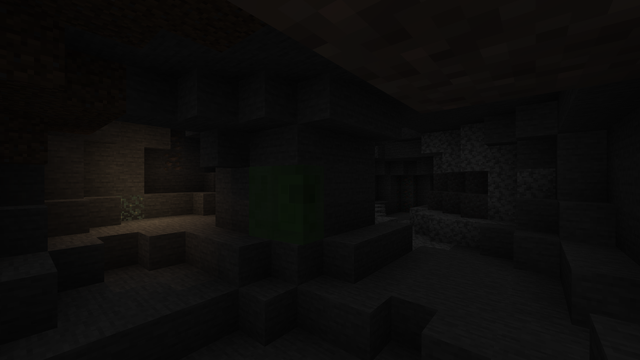slimes: (247, 161, 344, 246)
